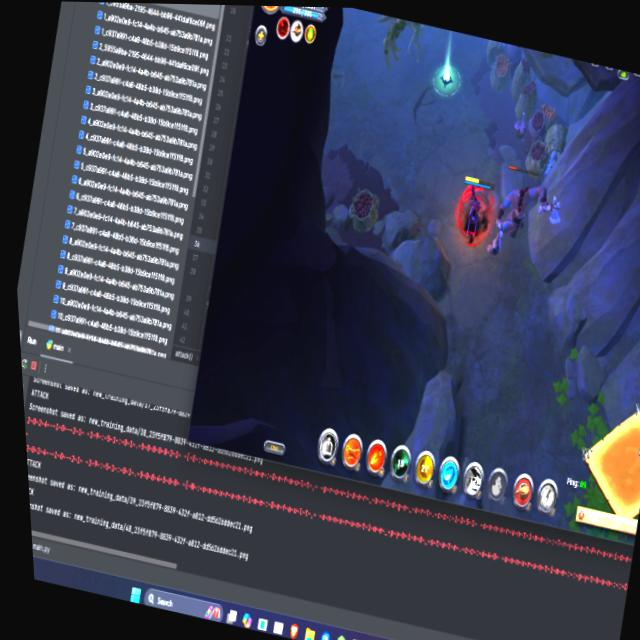ore: (478, 158, 572, 282), (367, 13, 440, 72)
red: (445, 171, 504, 257)
